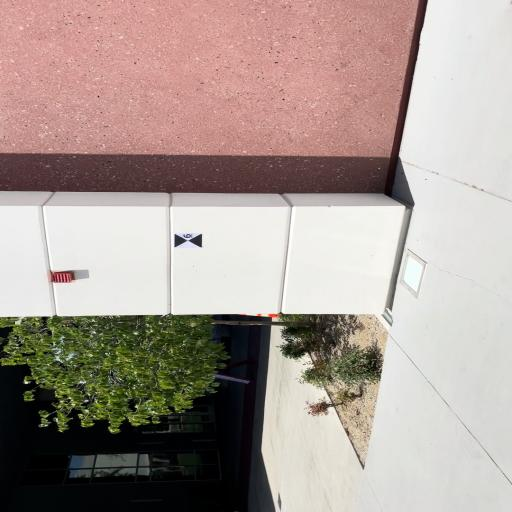target6: (173, 233, 203, 249)
